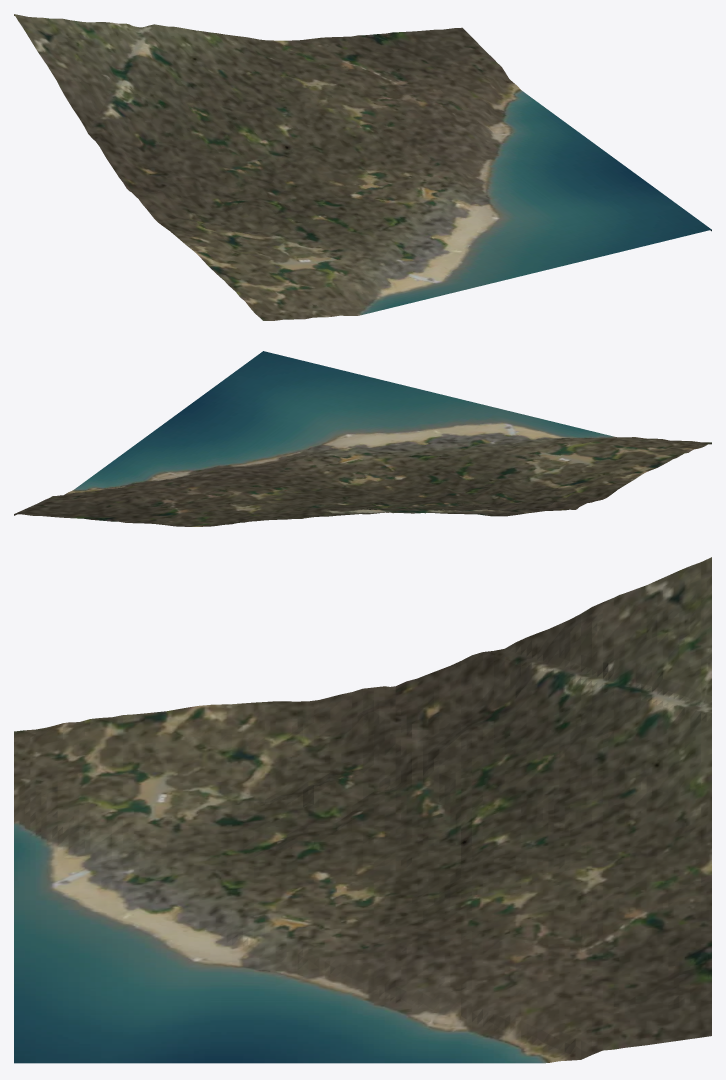
The picture shows the model from 3 angles, top to bottom: view 1: azimuth 30°, elevation 25°; view 2: azimuth 150°, elevation 25°; view 3: azimuth 270°, elevation 25°; orthographic projection. The views are drawn at different scales.
Bounding box in the file's own units: 250 × 76.98 × 241.
1 material, 1 textured.
